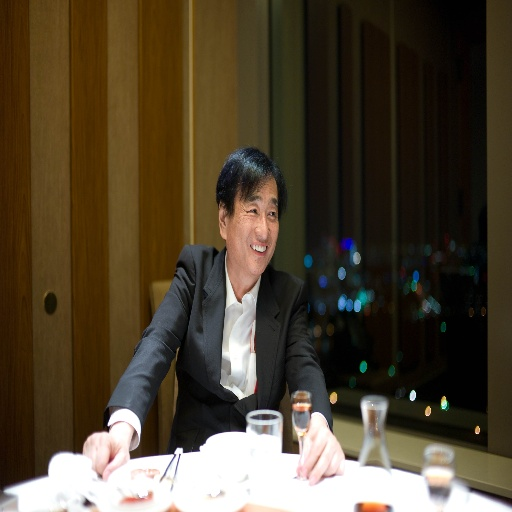hand: (301, 416, 349, 494), (81, 429, 130, 483)
